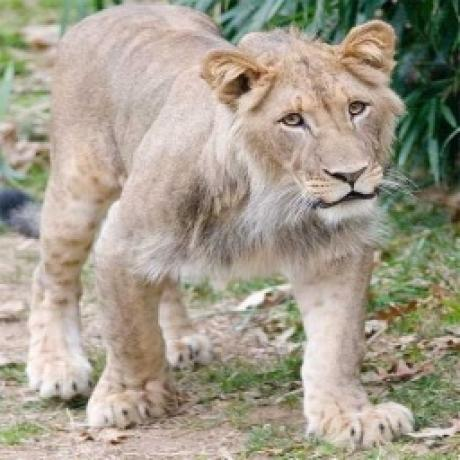Lion: (25, 1, 425, 449)
